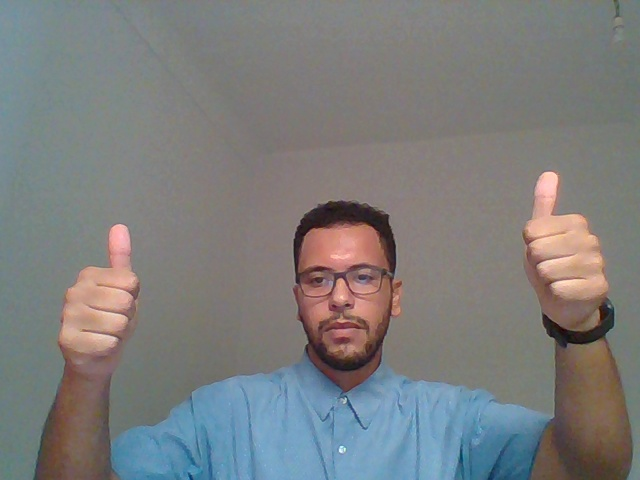ok: (19, 179, 183, 465), (486, 139, 635, 442)
